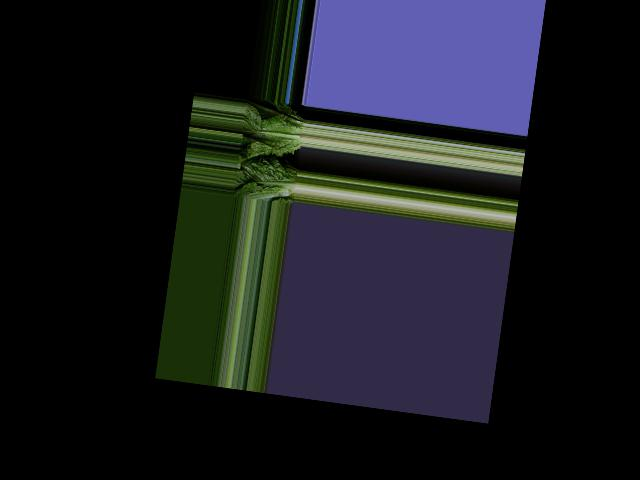lettuce: (237, 155, 299, 201)
